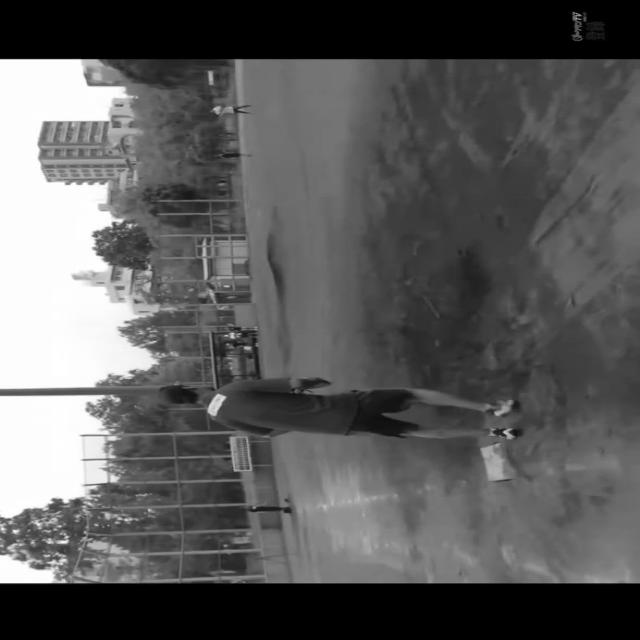base: (472, 442, 520, 479)
shoe: (486, 390, 528, 418), (489, 426, 521, 440)
